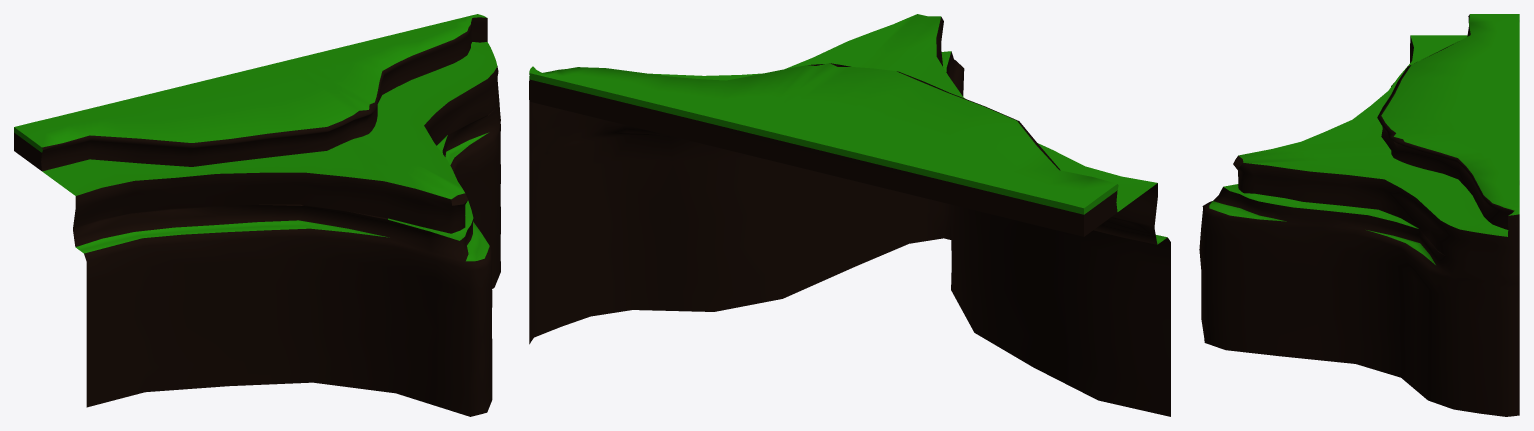
The model's file is Cliff_test_1.FBX.
3 views of the same model, side by side, from view 1: azimuth 30°, elevation 25°; view 2: azimuth 150°, elevation 25°; view 3: azimuth 270°, elevation 25° (orthographic). The views are drawn at different scales.
Parts seen in each view (by area): view 1: Cliff; view 2: Cliff; view 3: Cliff.
Part boxes in pixels (bbox=[...]): Cliff: bbox=[14, 14, 500, 416]; Cliff: bbox=[529, 14, 1170, 416]; Cliff: bbox=[1199, 14, 1519, 416].
Bounding box in the file's own units: 2.66 × 1.24 × 1.78.
